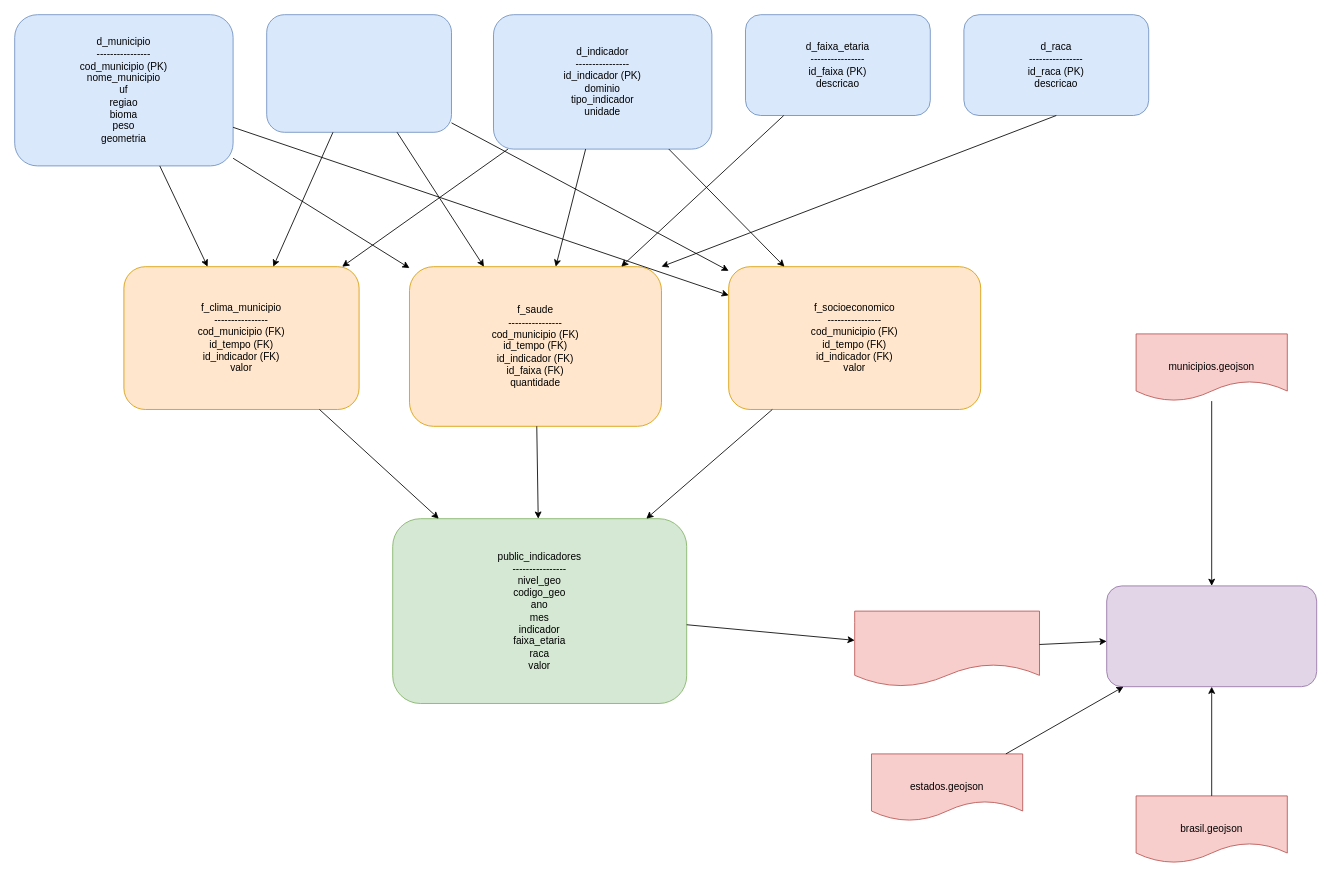
The diagram is 1331 pixels wide and 878 high, and some of its shapes have lost their labels. Here are the shapes that lost their labels. From the top down, the centre of each, then its label:
pixel 359 73: d_tempo ---------------- id_tempo (PK) ano mes ano_mes
pixel 947 648: JSON de Indicadores
pixel 1211 636: Drupal Web Portal (Leaflet / Mapbox)
